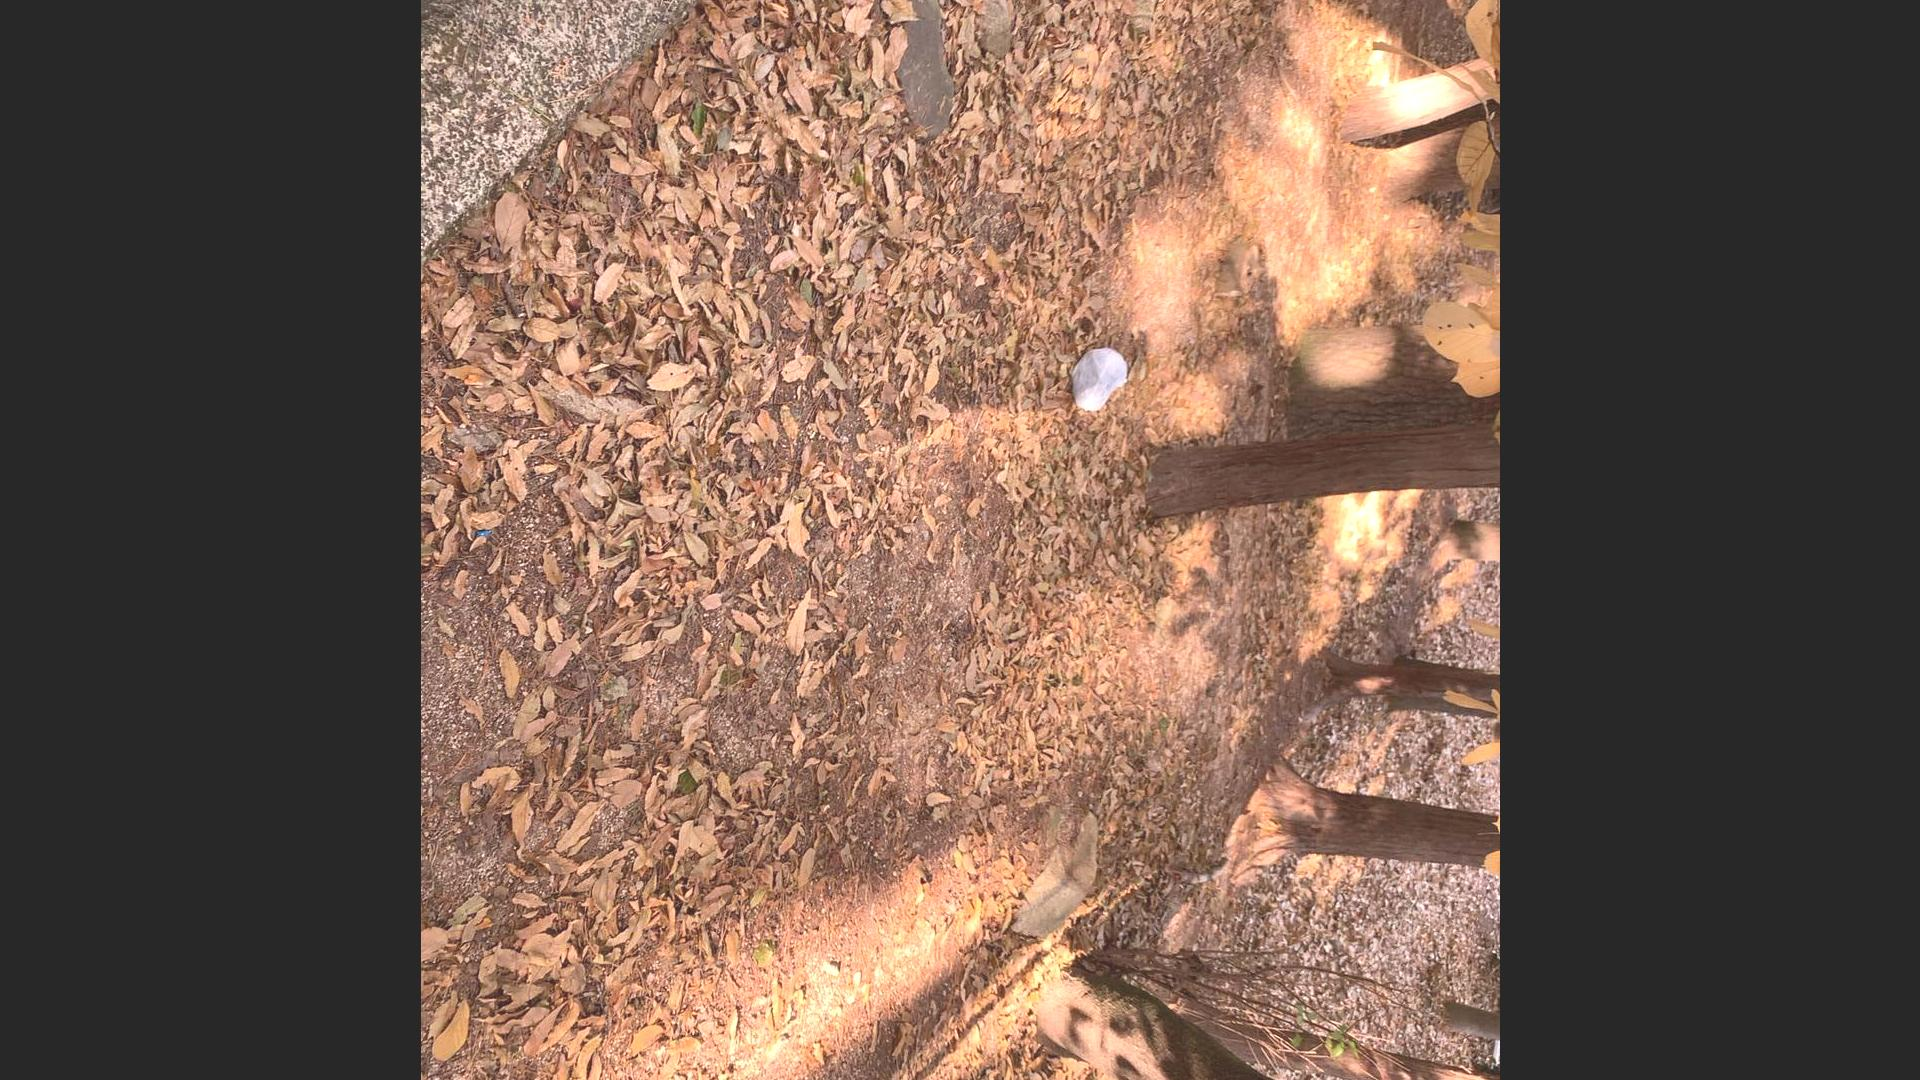white_bag: (1068, 343, 1129, 415)
